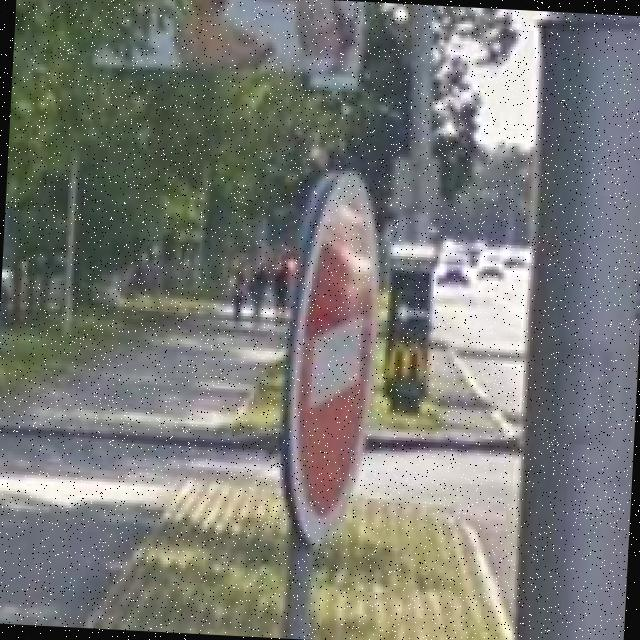Zakaz wjazdu: (276, 165, 390, 552)
